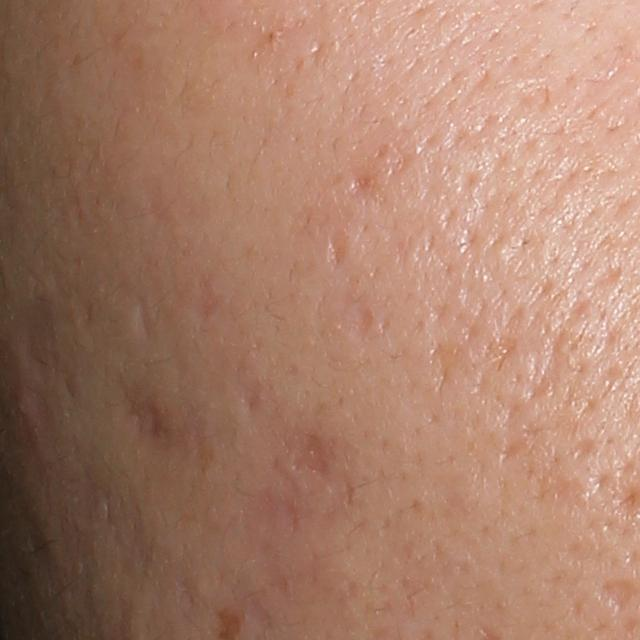atrophic_scar: (120, 383, 195, 452), (22, 299, 66, 378), (287, 423, 338, 487), (428, 341, 466, 407), (592, 573, 637, 615), (134, 289, 158, 345), (325, 227, 353, 271), (348, 167, 381, 196), (351, 306, 375, 343)
papule: (15, 385, 36, 426)
